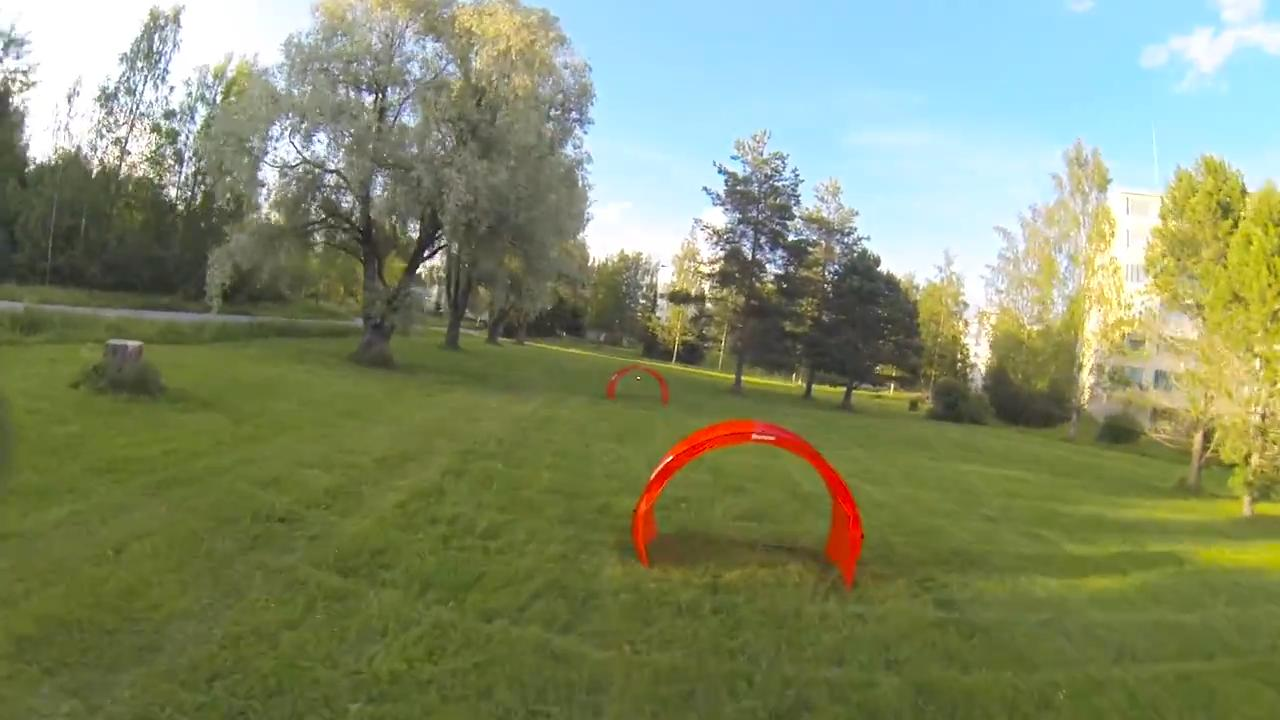gate: (626, 417, 865, 586)
